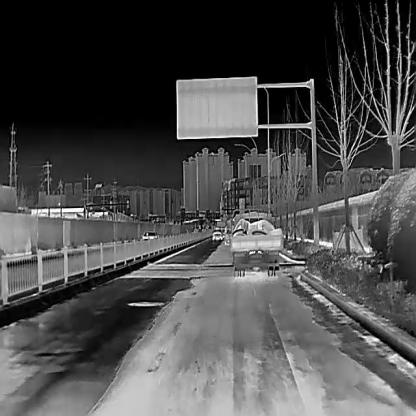car: (141, 229, 157, 240), (223, 226, 231, 246), (212, 228, 222, 239)
truck: (230, 208, 282, 276)
